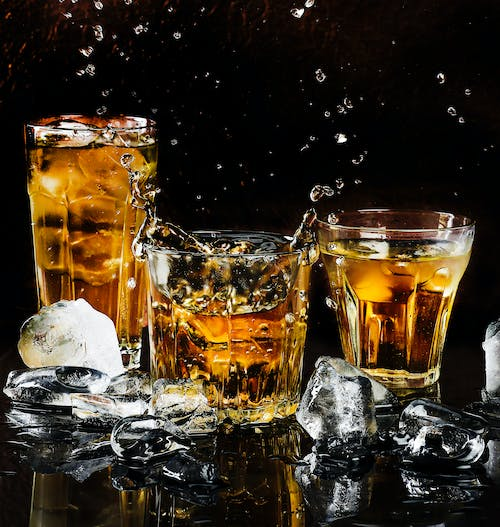alcohol: (22, 113, 160, 371), (143, 228, 313, 426), (313, 208, 478, 391)
